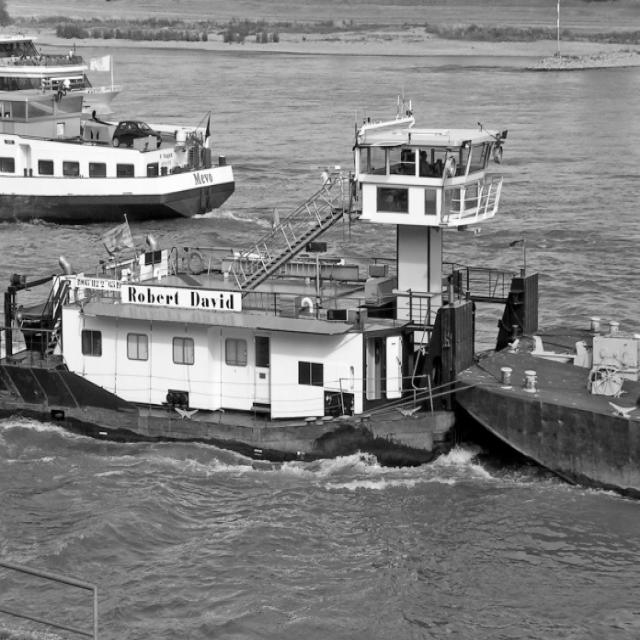tugboat: (1, 84, 548, 486)
